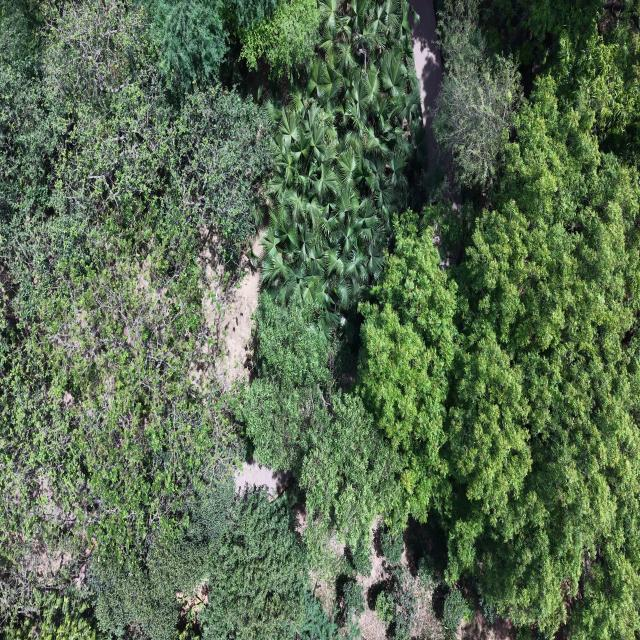DRY_AREA: (411, 0, 450, 173), (219, 260, 260, 388), (411, 0, 442, 166), (412, 0, 442, 162), (234, 460, 291, 494)
VEGETATION_TREE: (0, 0, 639, 639), (0, 2, 305, 637), (0, 2, 270, 633), (358, 65, 639, 637), (0, 3, 257, 615), (360, 76, 639, 637), (425, 16, 639, 637), (441, 76, 639, 636), (261, 0, 422, 337), (236, 294, 398, 553), (90, 483, 304, 639), (359, 212, 456, 525), (479, 0, 639, 164), (470, 0, 638, 154), (433, 0, 521, 187), (145, 0, 319, 94), (150, 0, 229, 88), (241, 0, 320, 79), (368, 523, 418, 639), (2, 587, 104, 639), (294, 594, 359, 639), (392, 567, 418, 640), (443, 589, 472, 634), (379, 527, 403, 565), (346, 541, 372, 575), (343, 580, 364, 616), (376, 590, 395, 623)
